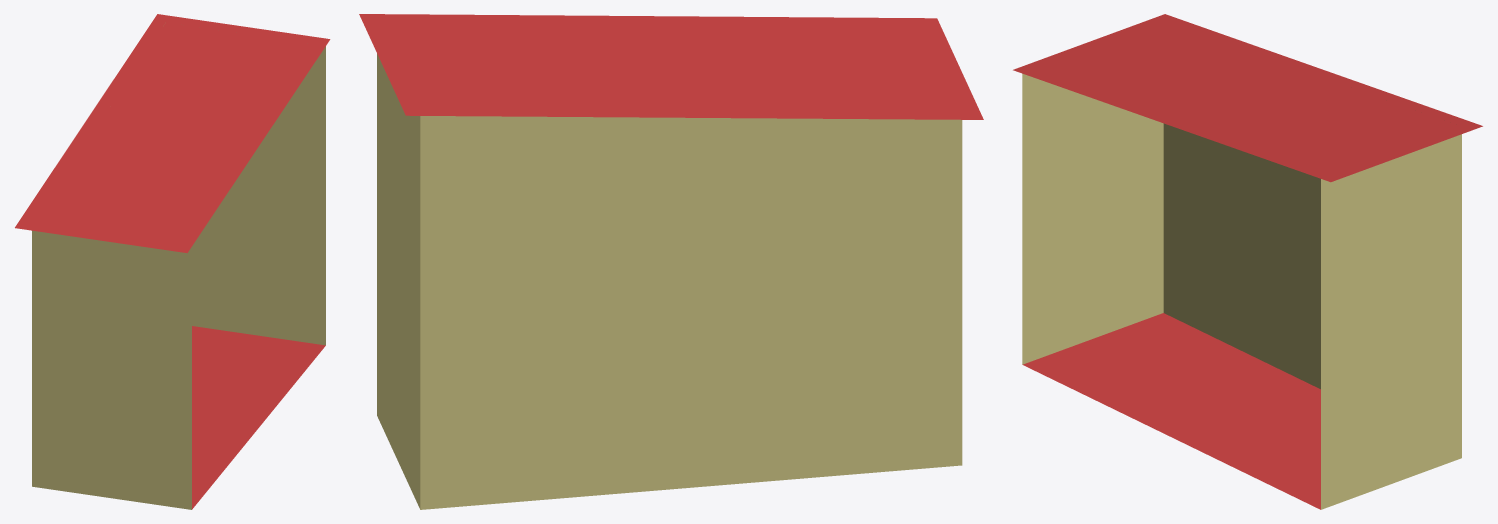
3 views of the same model, side by side, from view 1: azimuth 30°, elevation 25°; view 2: azimuth 150°, elevation 25°; view 3: azimuth 270°, elevation 25° (orthographic). The views are drawn at different scales.
Bounding box in the file's own units: 8.22 × 7.75 × 6.04.
